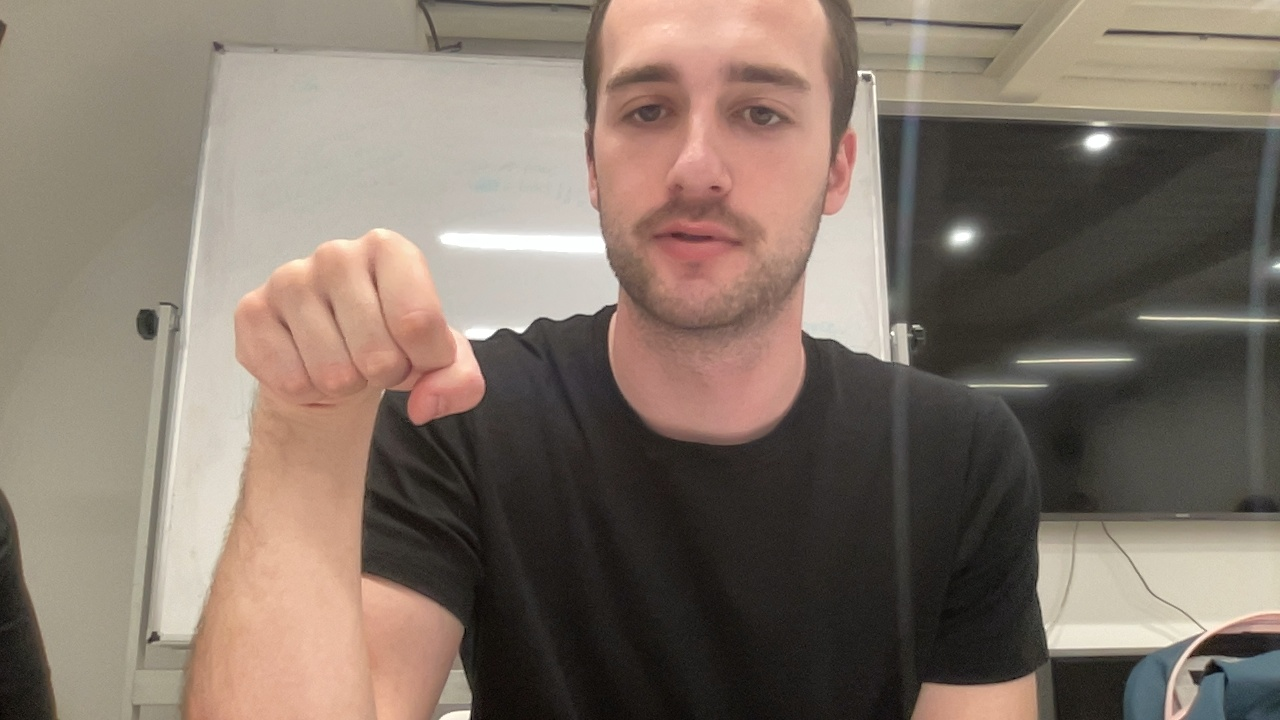Yes: (226, 221, 491, 488)
